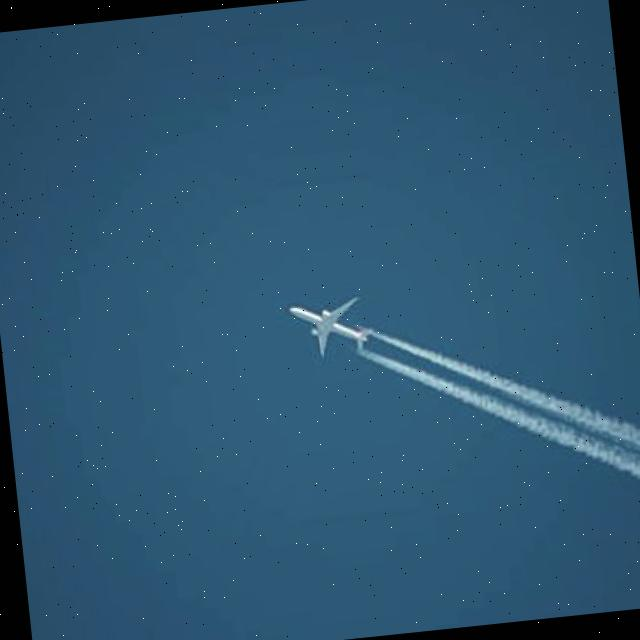Ct: (271, 235, 640, 546)
